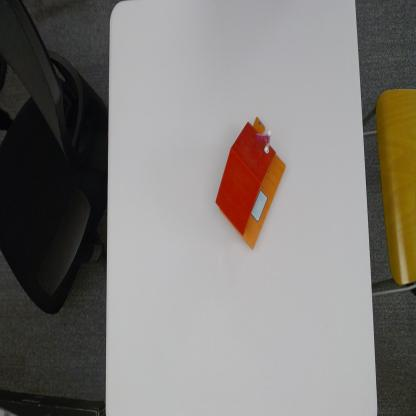House: (215, 115, 286, 251)
